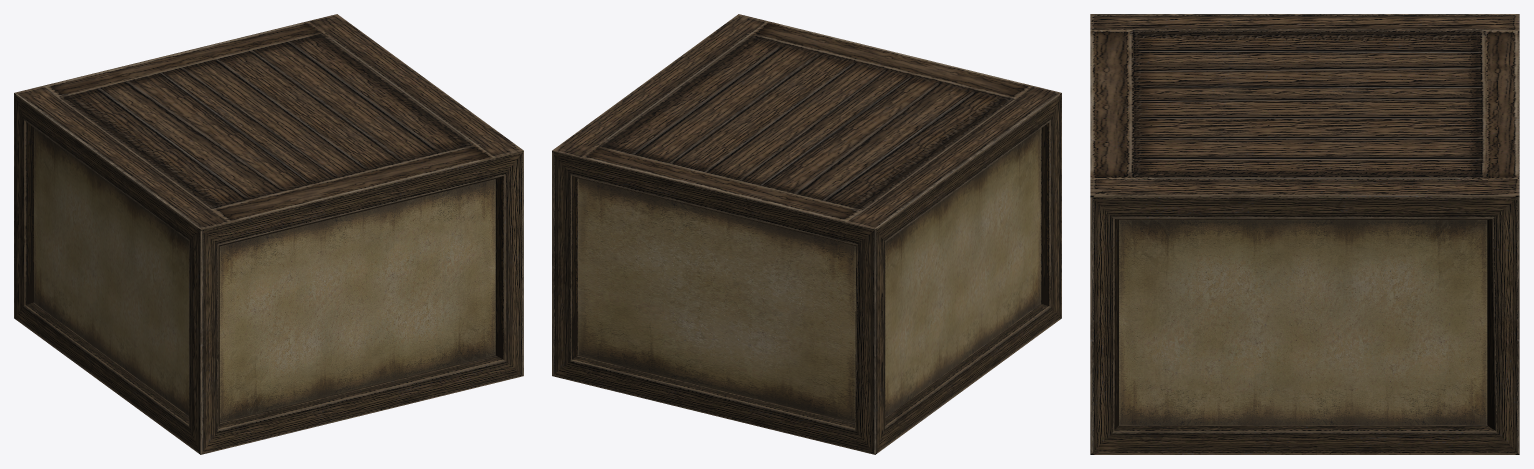
The model's file is House_6X6_05a.fbx.
3 renders of one model, left to right at view 1: azimuth 30°, elevation 25°; view 2: azimuth 150°, elevation 25°; view 3: azimuth 270°, elevation 25°, orthographic. The views are drawn at different scales.
Visible parts, largest first — view 1: House_6X6_05a; view 2: House_6X6_05a; view 3: House_6X6_05a.
Boxes of the visible parts, x1,y1,x2,y2 form: House_6X6_05a: (14, 14, 523, 454); House_6X6_05a: (552, 14, 1061, 454); House_6X6_05a: (1090, 14, 1519, 454).
Bounding box in the file's own units: 6 × 4 × 6.
